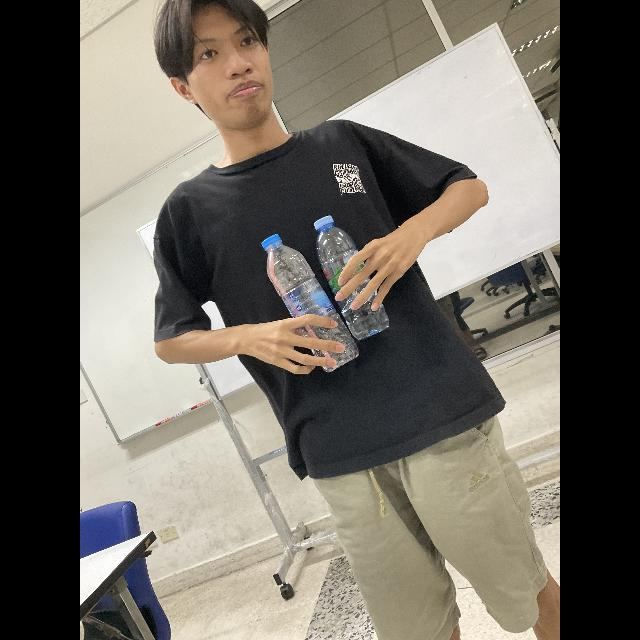plastic_bottle: (260, 232, 360, 372), (314, 214, 390, 340)
plastic_bottle_cap: (261, 233, 281, 250), (315, 214, 333, 230)
straw: (268, 245, 338, 369)
